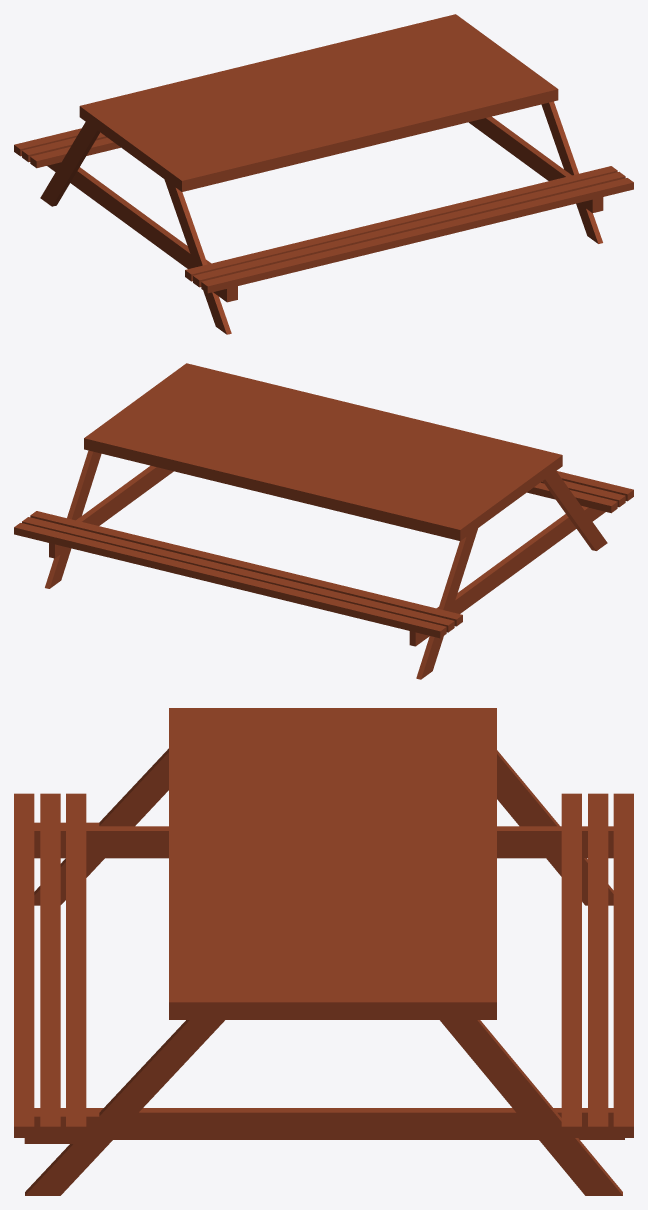
Rendered from Mesa.fbx.
3 views of the same model, one above another, from view 1: azimuth 30°, elevation 25°; view 2: azimuth 150°, elevation 25°; view 3: azimuth 270°, elevation 25° (orthographic). The views are drawn at different scales.
Parts seen in each view (by area): view 1: Plano, Plano.002, Plano.001; view 2: Plano, Plano.001, Plano.002; view 3: Plano, Plano.002, Plano.001.
Part boxes in pixels (box(x1,y1,x2,y2)): Plano: box(40, 14, 603, 334); Plano.002: box(185, 166, 633, 293); Plano.001: box(14, 128, 120, 168); Plano: box(45, 363, 607, 679); Plano.001: box(14, 511, 462, 638); Plano.002: box(527, 471, 633, 513); Plano: box(24, 708, 624, 1195); Plano.002: box(14, 793, 86, 1137); Plano.001: box(561, 793, 633, 1137).
Size of the model in its own units: 401 by 109 by 315.
